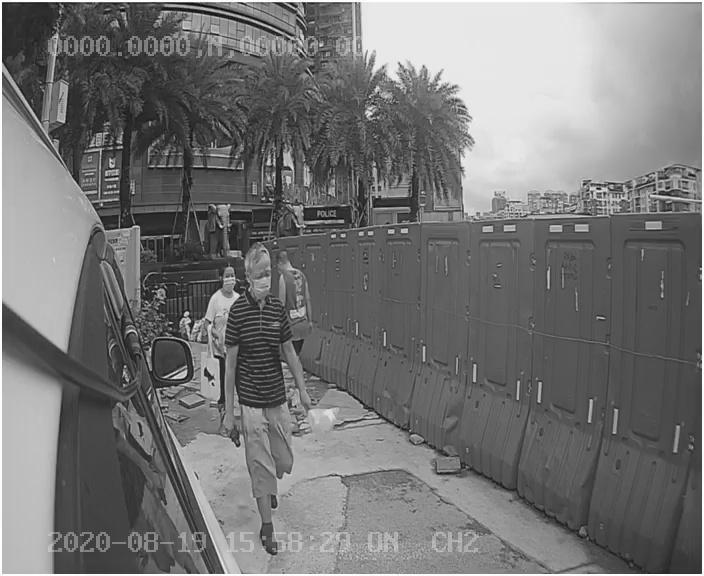person: (213, 240, 329, 536)
